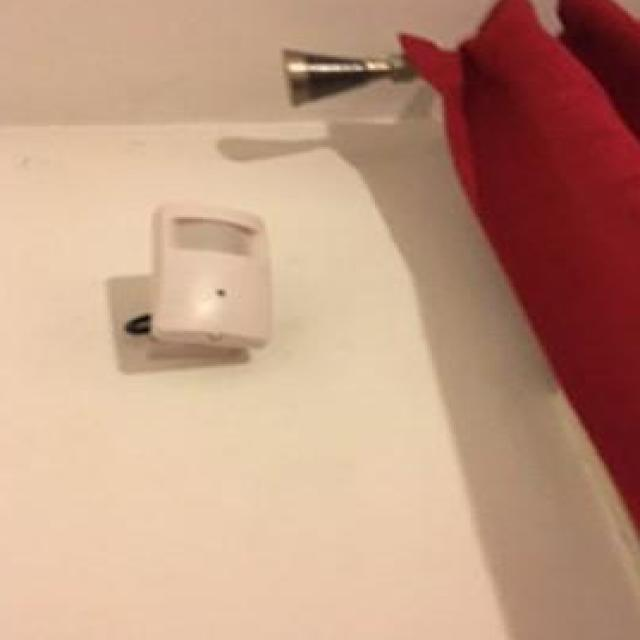hidden camera: (218, 289, 225, 297)
